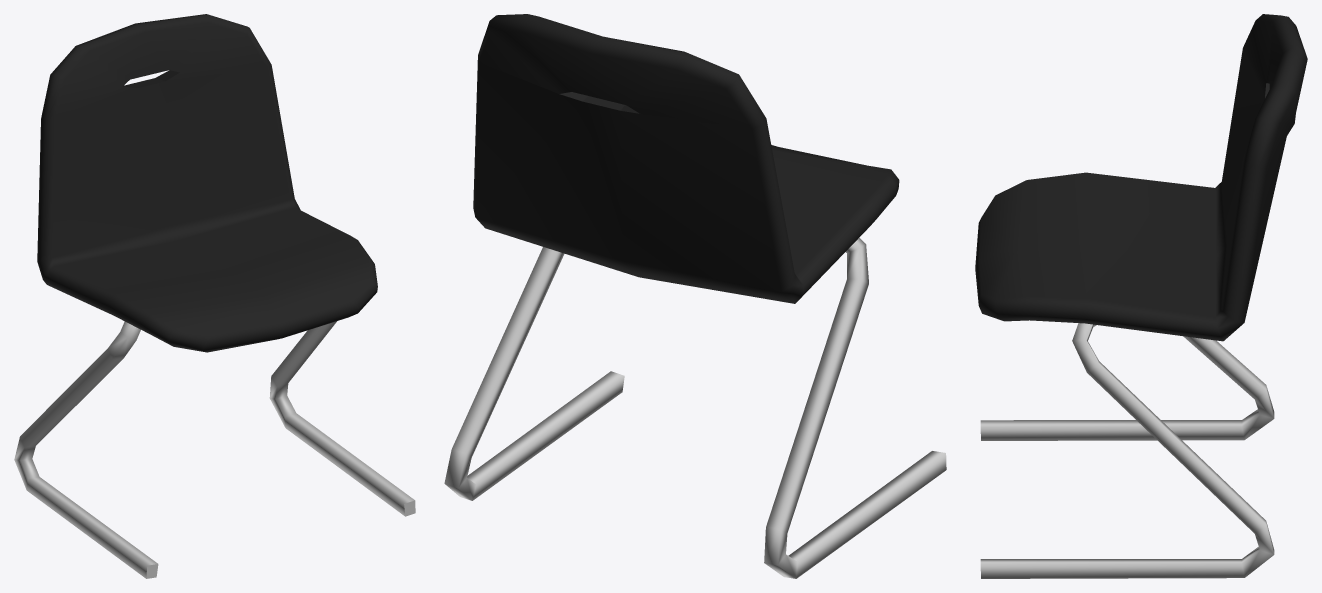
The model's file is chair_052.fbx.
3 renders of one model, left to right at view 1: azimuth 30°, elevation 25°; view 2: azimuth 150°, elevation 25°; view 3: azimuth 270°, elevation 25°, orthographic. The views are drawn at different scales.
Visible parts, largest first — view 1: chair_052; view 2: chair_052; view 3: chair_052.
Part boxes in pixels (bbox=[...]): chair_052: bbox=[14, 14, 415, 578]; chair_052: bbox=[444, 14, 946, 578]; chair_052: bbox=[975, 14, 1307, 578].
Size of the model in its own units: 75.81 by 73.75 by 113.
